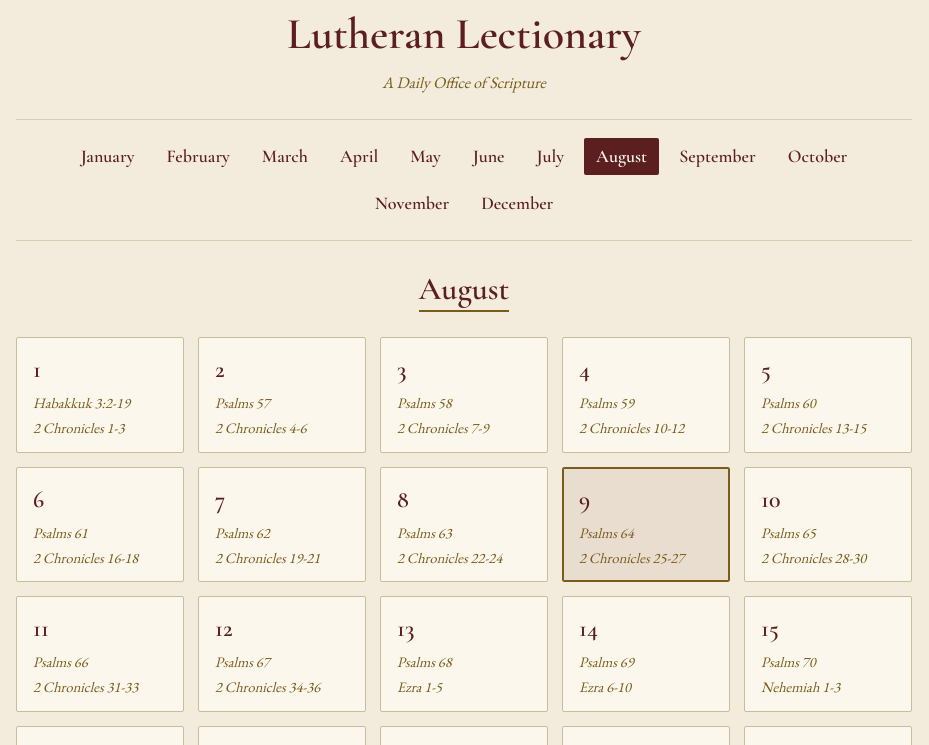
it: Home › should display only the book title when all chapters are included in the reading
The image size is (929, 745).
Click the button "November". click: (412,204)
box: [363, 185, 461, 222]
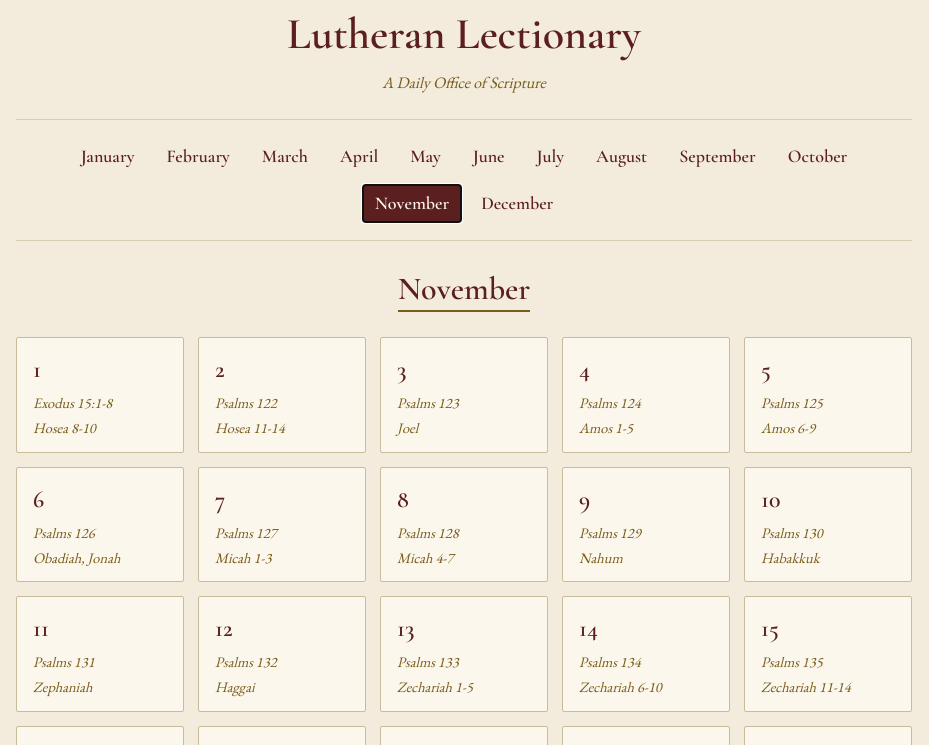
expect the text with test id "reading2:November-3" reads "Joel": met, box [397, 418, 418, 437]
